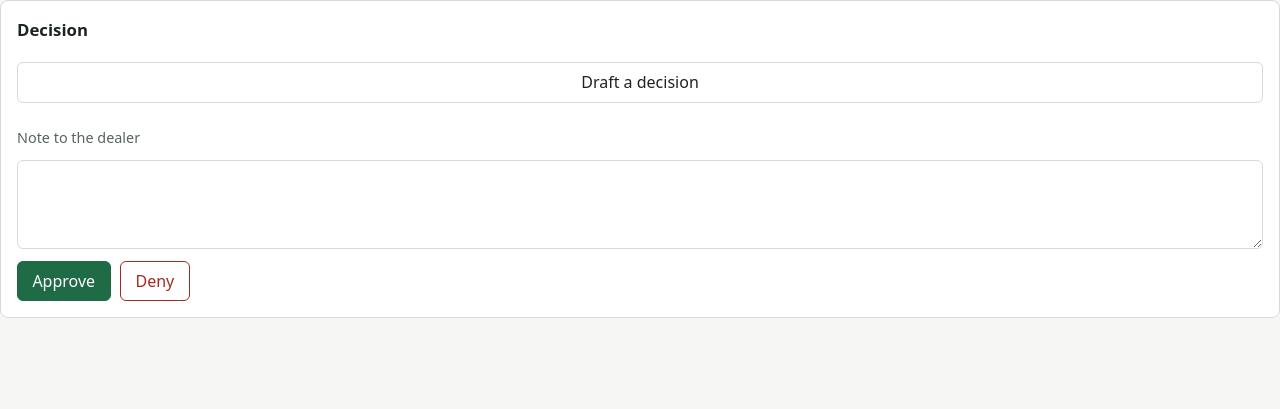
review › still allows a decision when the assistant is down
The width and height of the screenshot is (1280, 409).
Later steps or results of the test are not shown.
What coordinates should you click on to do the following:
click the button "Draft a decision"
I would click on:
 (640, 82)
Its box is [17,62,1263,103].
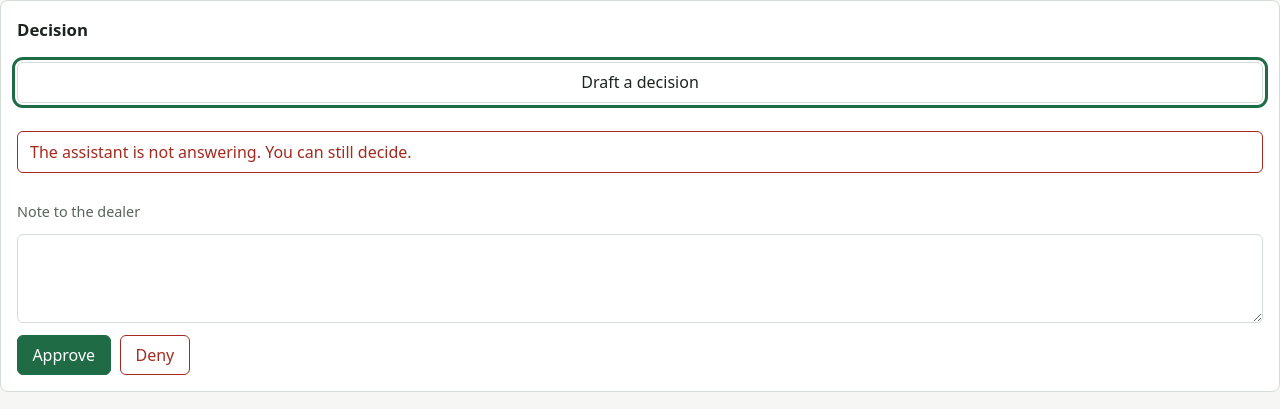
Result: the text "The assistant is not answering. You can still decide." is shown at [17,131,1263,173]
